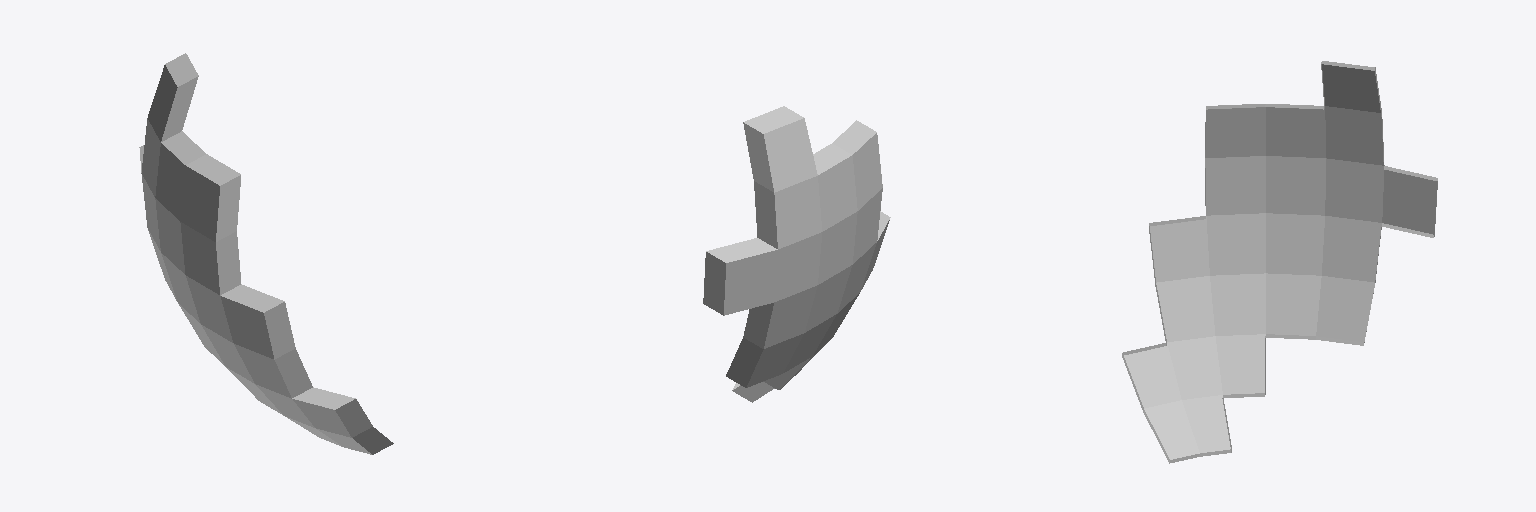
The model's file is cont1.obj.
The picture shows the model from 3 angles: view 1: azimuth 30°, elevation 25°; view 2: azimuth 150°, elevation 25°; view 3: azimuth 270°, elevation 25°; orthographic projection.
Parts seen in each view (by area): view 1: cont1; view 2: cont1; view 3: cont1.
Boxes of the visible parts, box(x1,y1,x2,y2) form: cont1: box(139, 53, 393, 454); cont1: box(703, 106, 890, 402); cont1: box(1122, 61, 1437, 463).
Size of the model in its own units: 164 by 330 by 272.